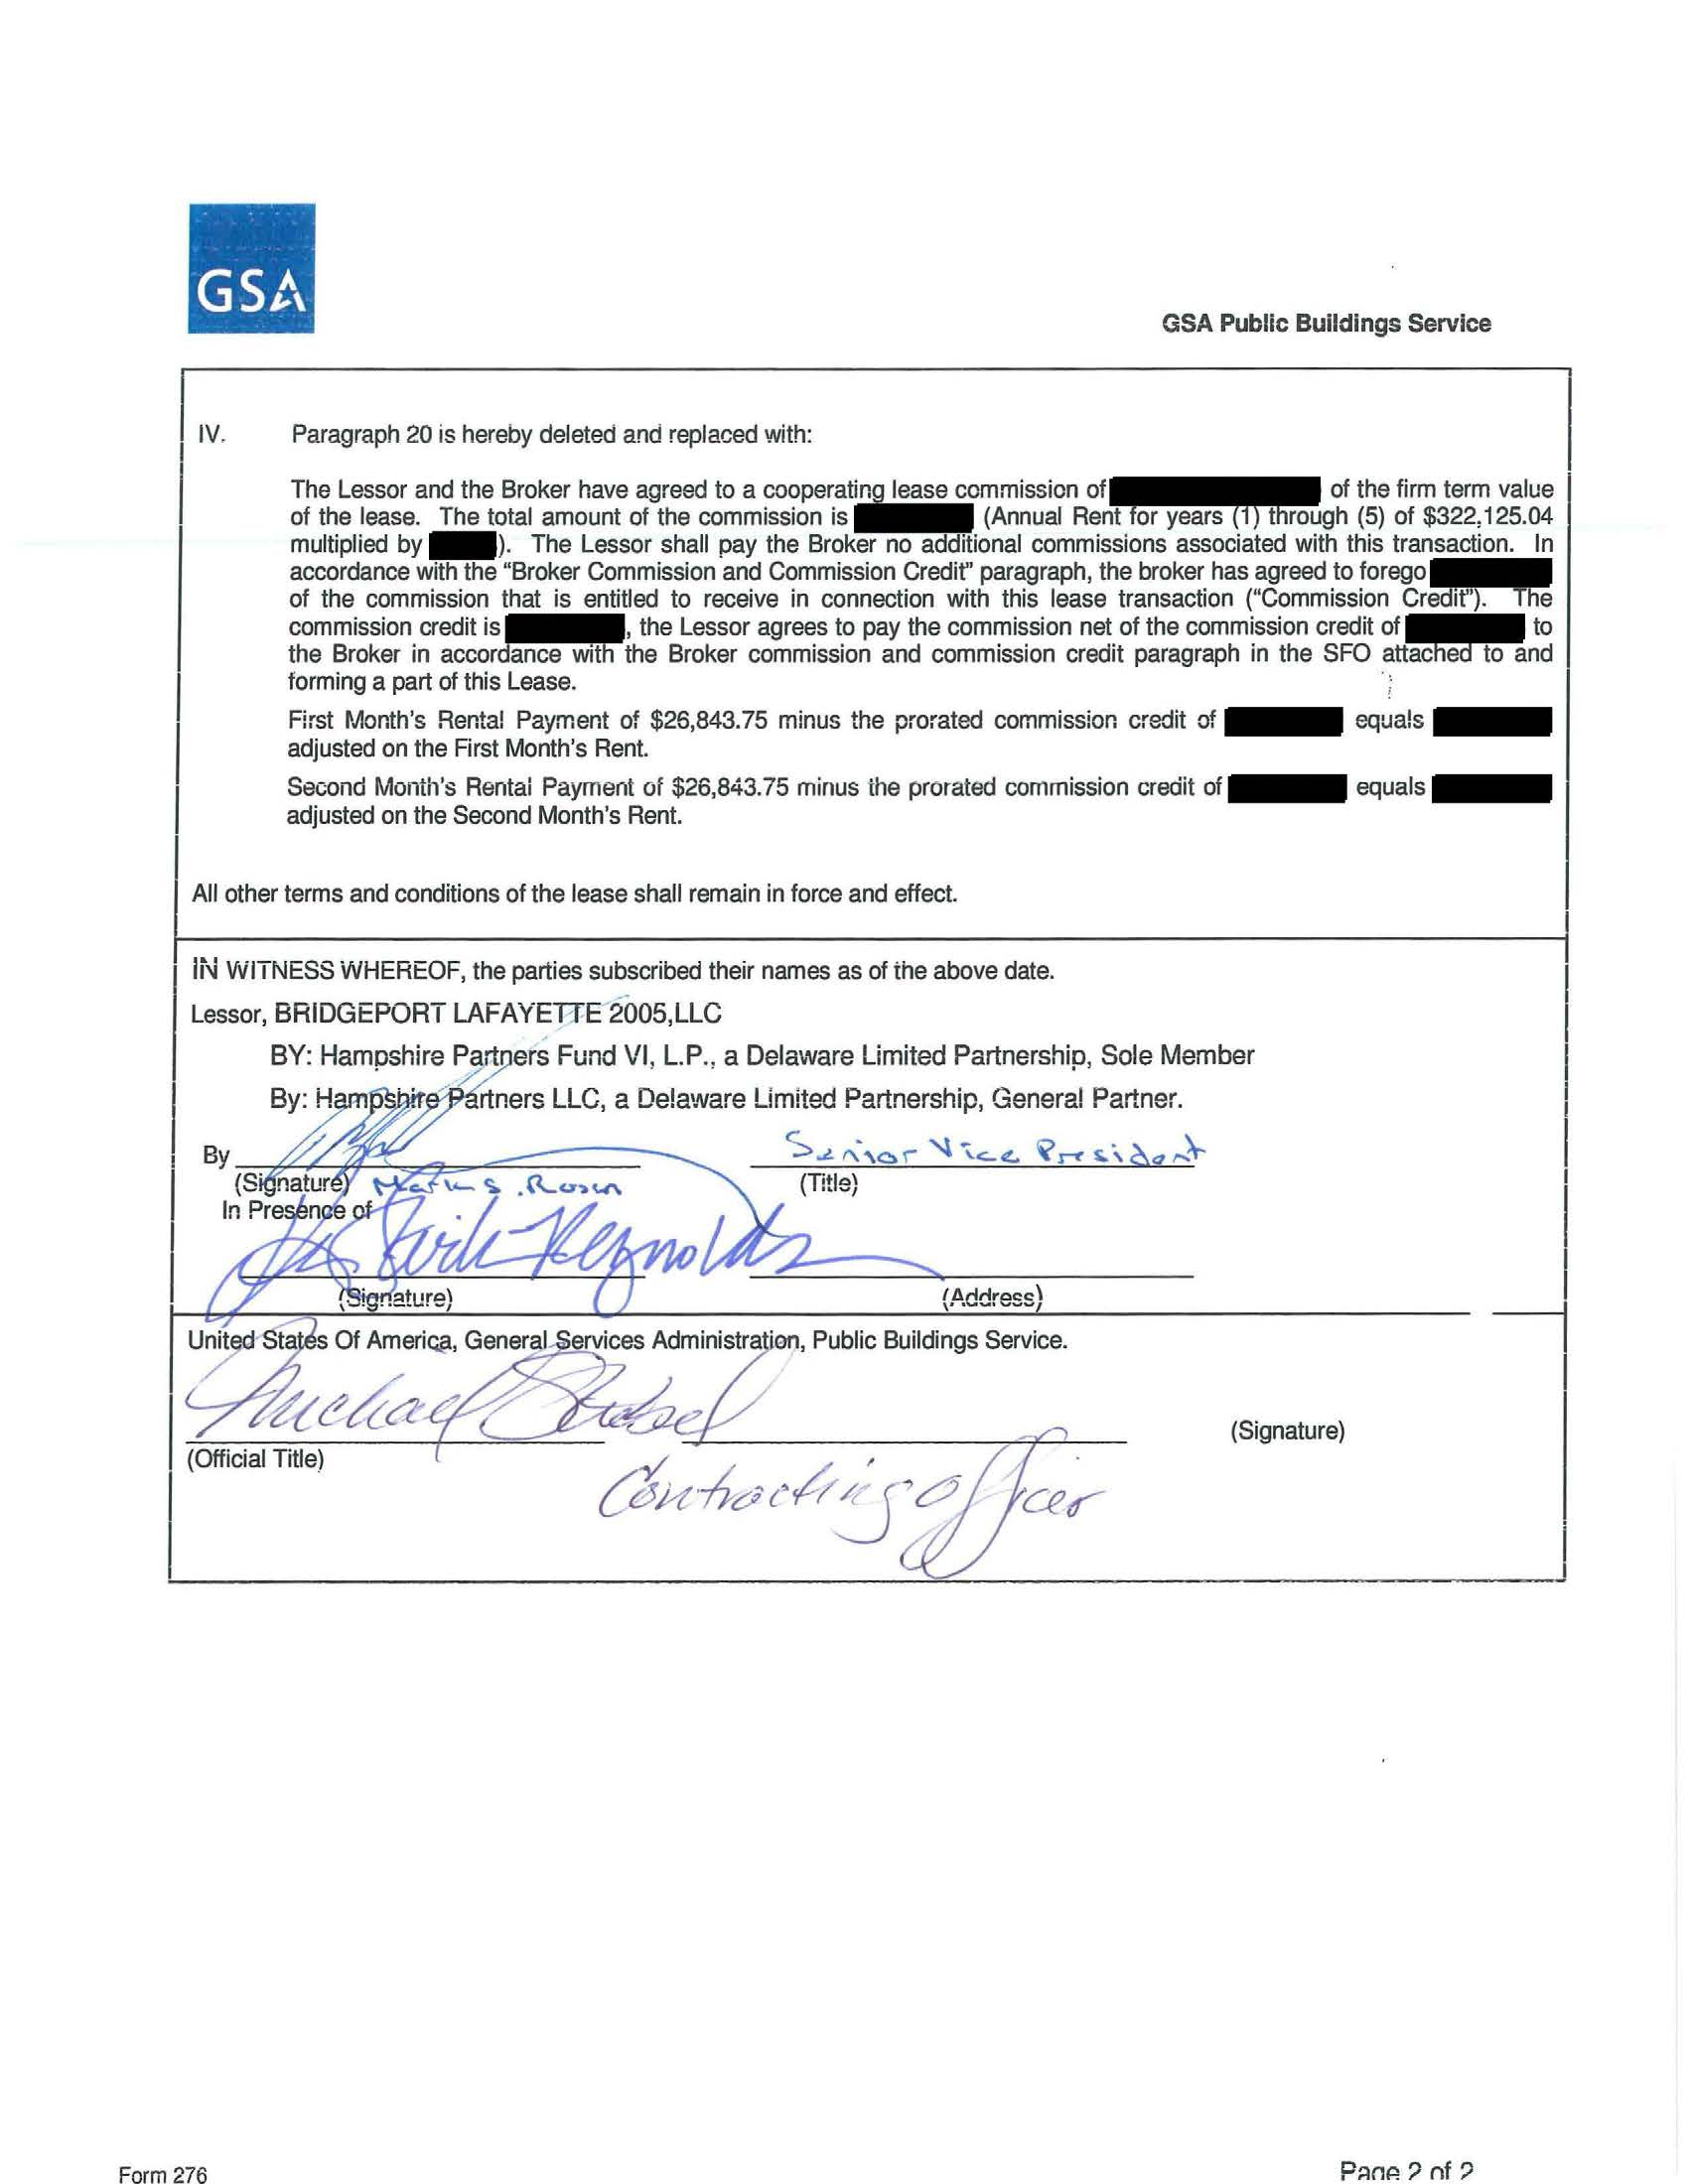handwritten: (204, 1174, 1009, 1314), (184, 1321, 1020, 1445), (589, 1450, 1137, 1574), (184, 1214, 1050, 1271), (243, 1110, 741, 1170), (759, 1115, 1213, 1172)
